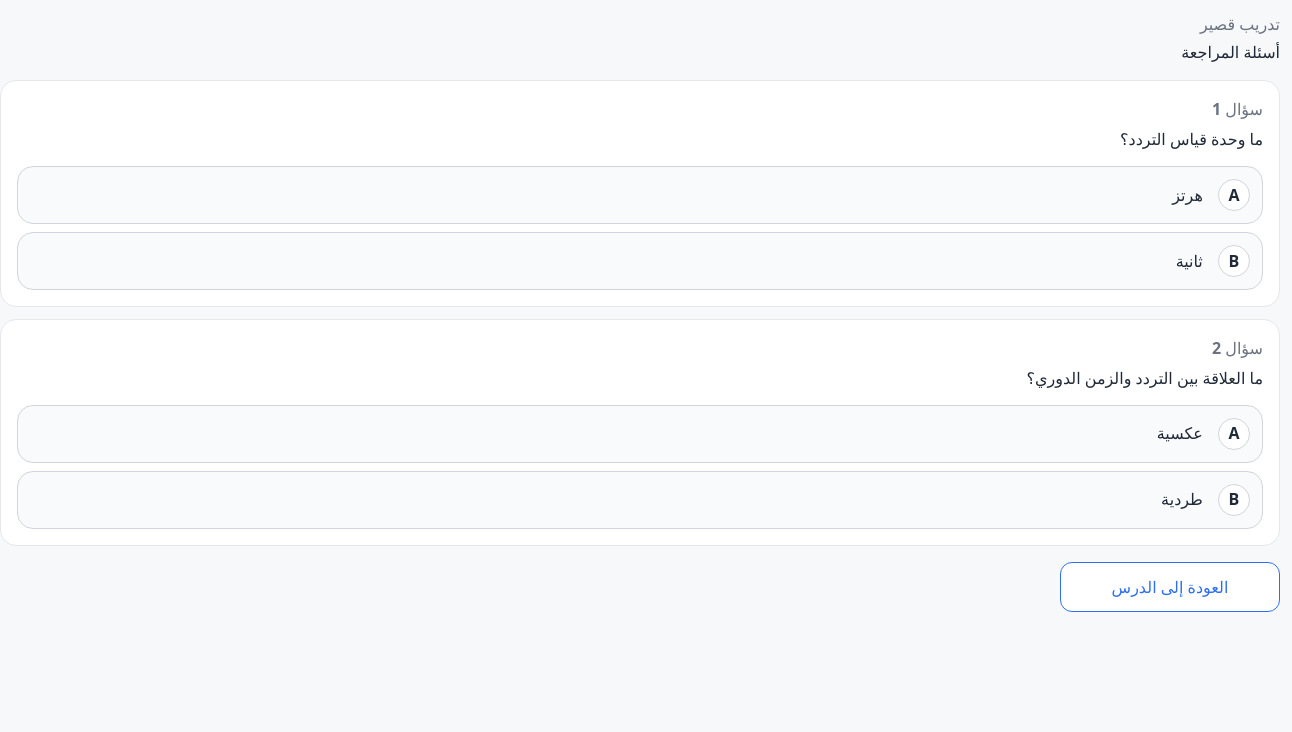
Test case: ReviewQuestionsView › يعرض التغذية الراجعة الصحيحة عند اختيار الإجابة الصحيحة
What coordinates should you click on to do the following:
click the button "A هرتز"
I would click on:
 (1234, 195)
Its box is 17,166 -> 1263,224.
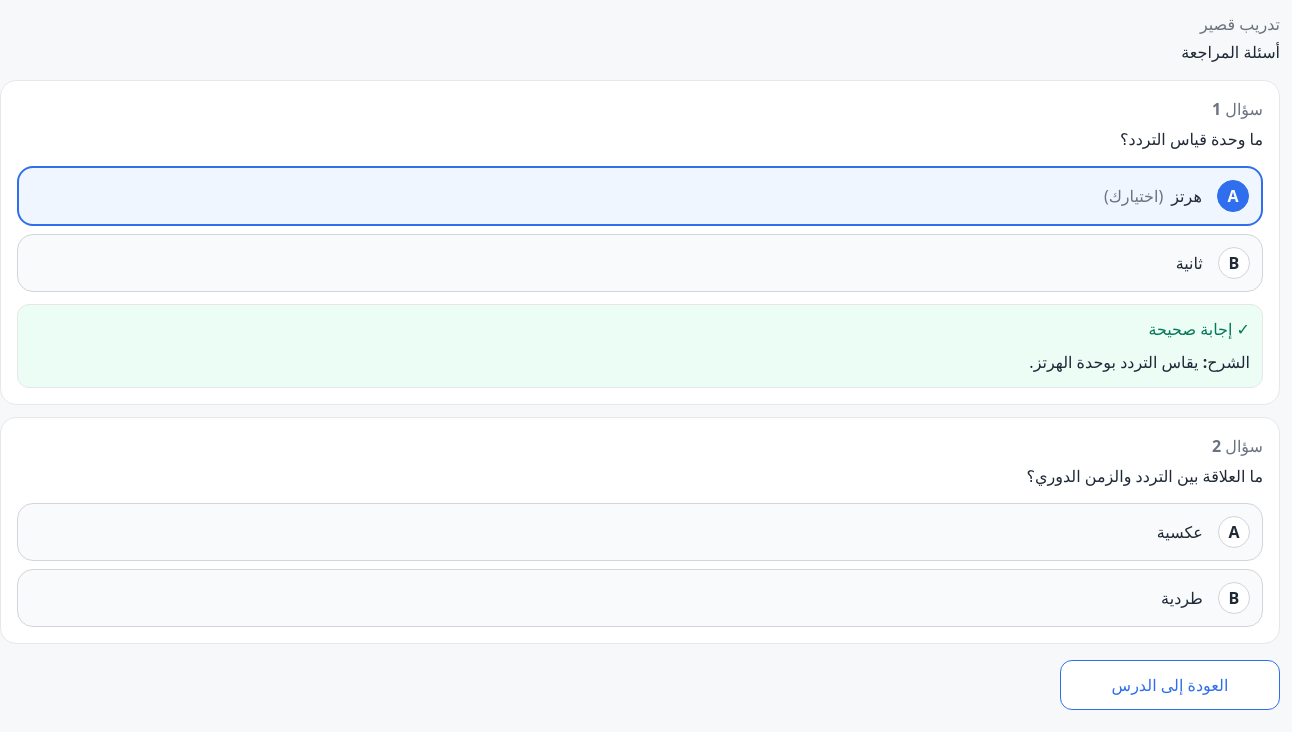
Expected: the text "✓ إجابة صحيحة" is shown, 1148,318 -> 1250,340
Expected: the text "الشرح: يقاس التردد بوحدة الهرتز." is shown, 1029,351 -> 1250,373
